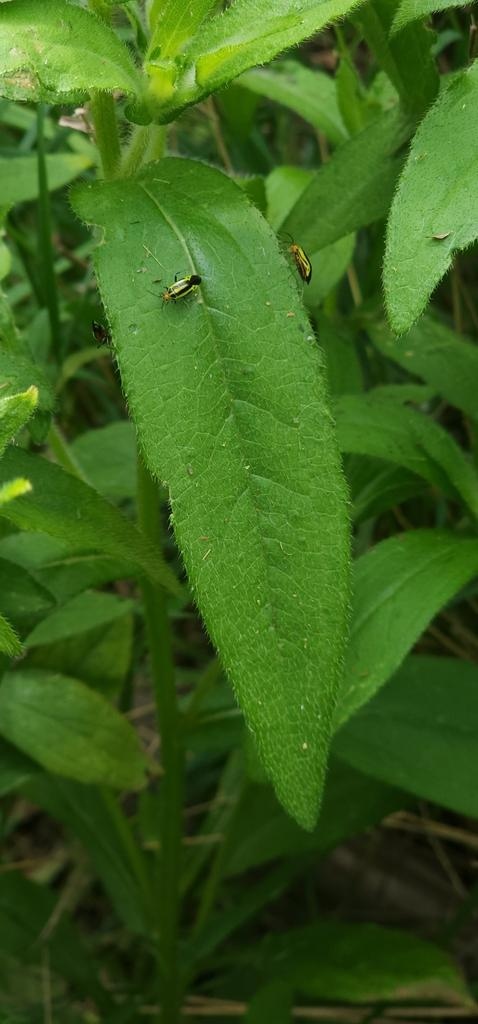plant_bugs: (264, 221, 339, 298), (133, 260, 218, 325)
